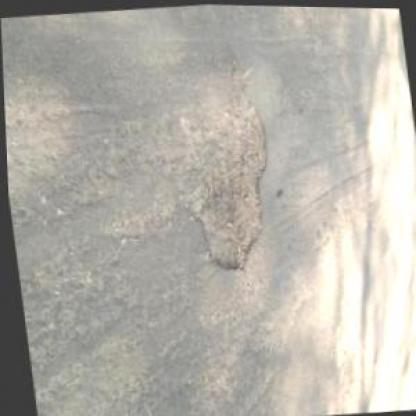pothole: (168, 88, 280, 274)
